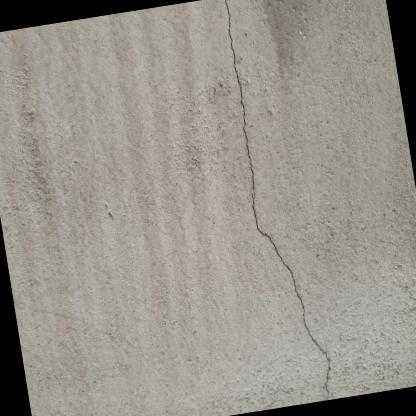crack: (224, 0, 328, 392)
